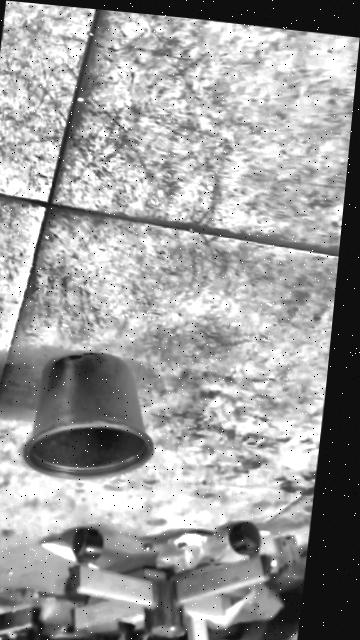pot: (21, 347, 163, 488)
